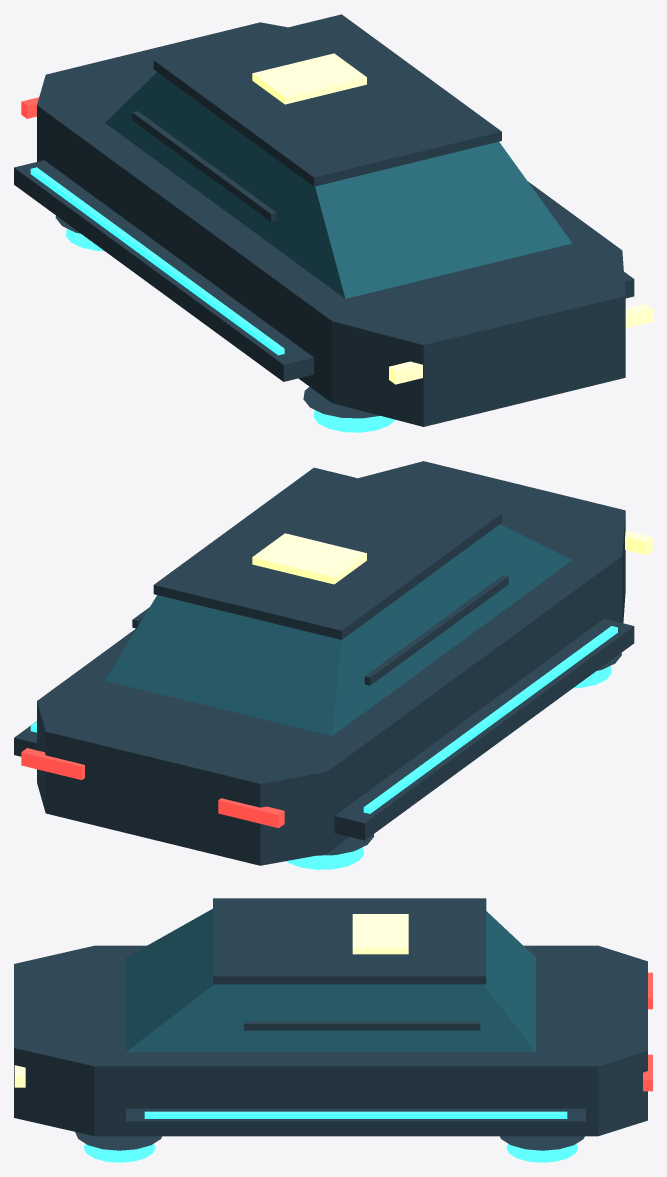
The model's file is air_commuter.glb.
3 views of the same model, one above another, from view 1: azimuth 30°, elevation 25°; view 2: azimuth 150°, elevation 25°; view 3: azimuth 270°, elevation 25° (orthographic). The views are drawn at different scales.
Visible parts, largest first — view 1: air_commuter; view 2: air_commuter; view 3: air_commuter.
Part boxes in pixels (box(x1,y1,x2,y2)): air_commuter: box(14, 14, 652, 432); air_commuter: box(14, 461, 652, 869); air_commuter: box(14, 898, 652, 1162).
Size of the model in its own units: 2.78 by 1.52 by 5.14.
